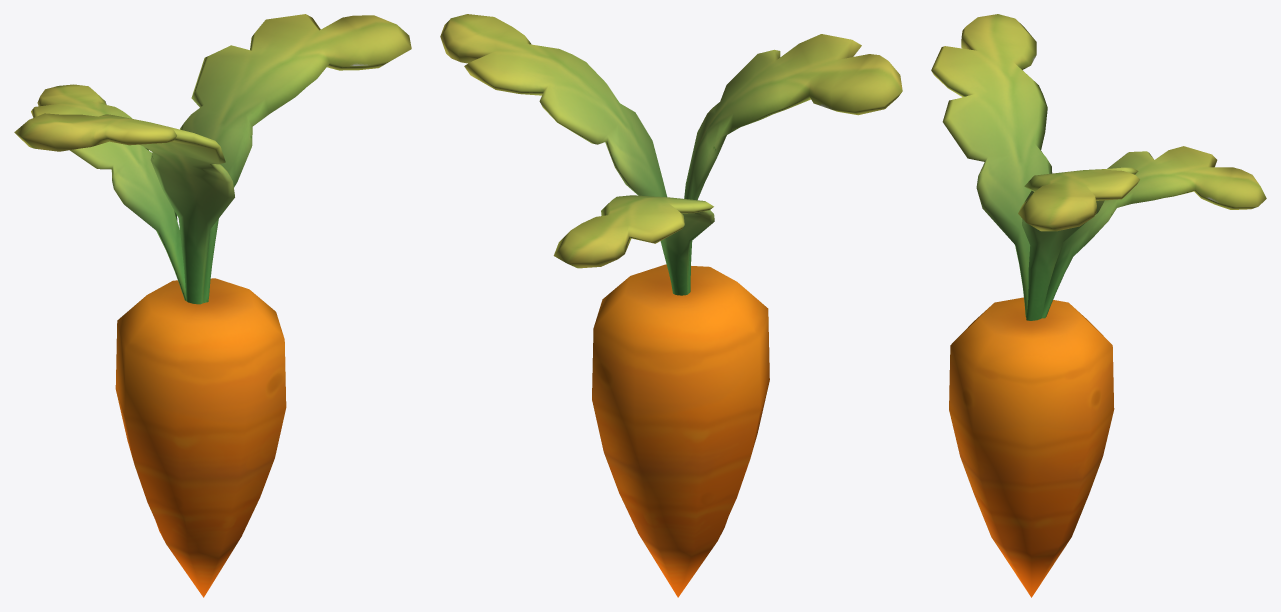
The model's file is Interac_Carrot.fbx.
3 views of the same model, side by side, from view 1: azimuth 30°, elevation 25°; view 2: azimuth 150°, elevation 25°; view 3: azimuth 270°, elevation 25° (orthographic). The views are drawn at different scales.
Parts seen in each view (by area): view 1: Carot_Leaf.001; view 2: Carot_Leaf.001; view 3: Carot_Leaf.001.
Part boxes in pixels (box(x1,y1,x2,y2)): Carot_Leaf.001: box(14, 14, 411, 597); Carot_Leaf.001: box(440, 14, 902, 597); Carot_Leaf.001: box(931, 14, 1266, 597).
Size of the model in its own units: 58.44 by 72.39 by 43.9.
1 material, 1 textured.
